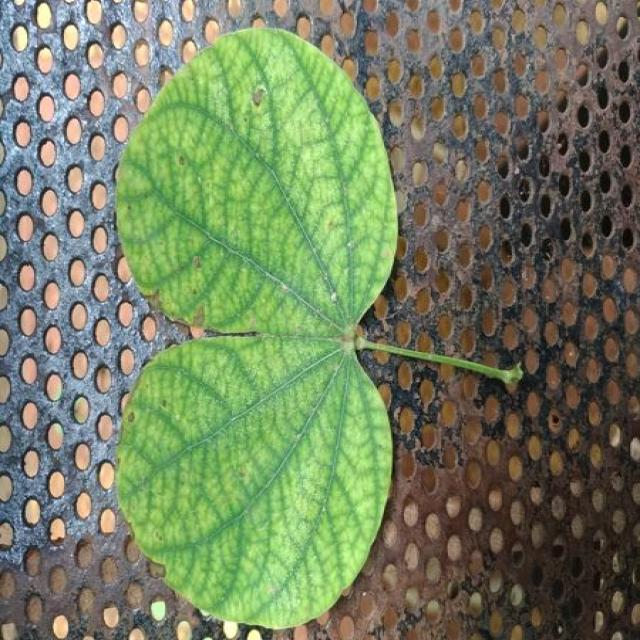Kambajala: (118, 29, 397, 627)
